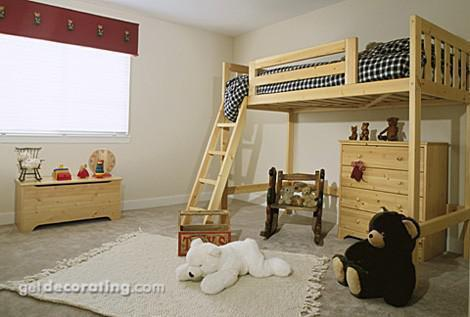Armario: (343, 150, 427, 241)
Cama: (230, 59, 424, 98)
Escaleras: (187, 98, 251, 219)
Otro Obstaculo: (170, 235, 295, 294), (333, 214, 418, 300)
Ventana: (1, 18, 126, 137)
